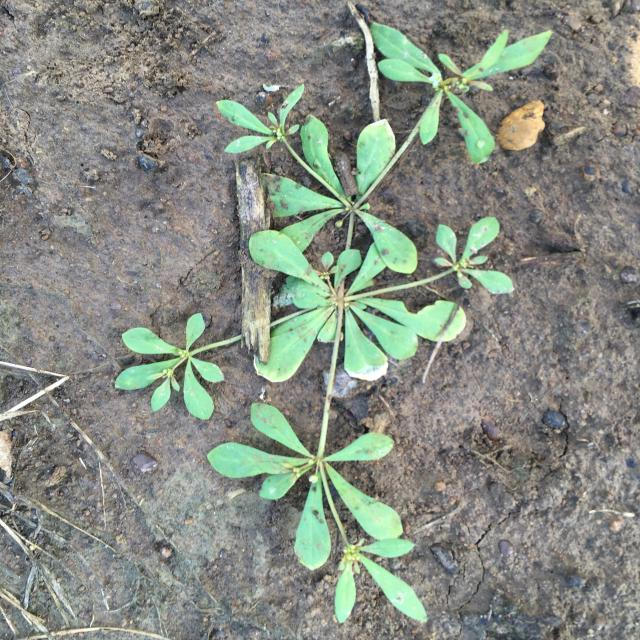Carpetweed: (115, 22, 553, 624)
